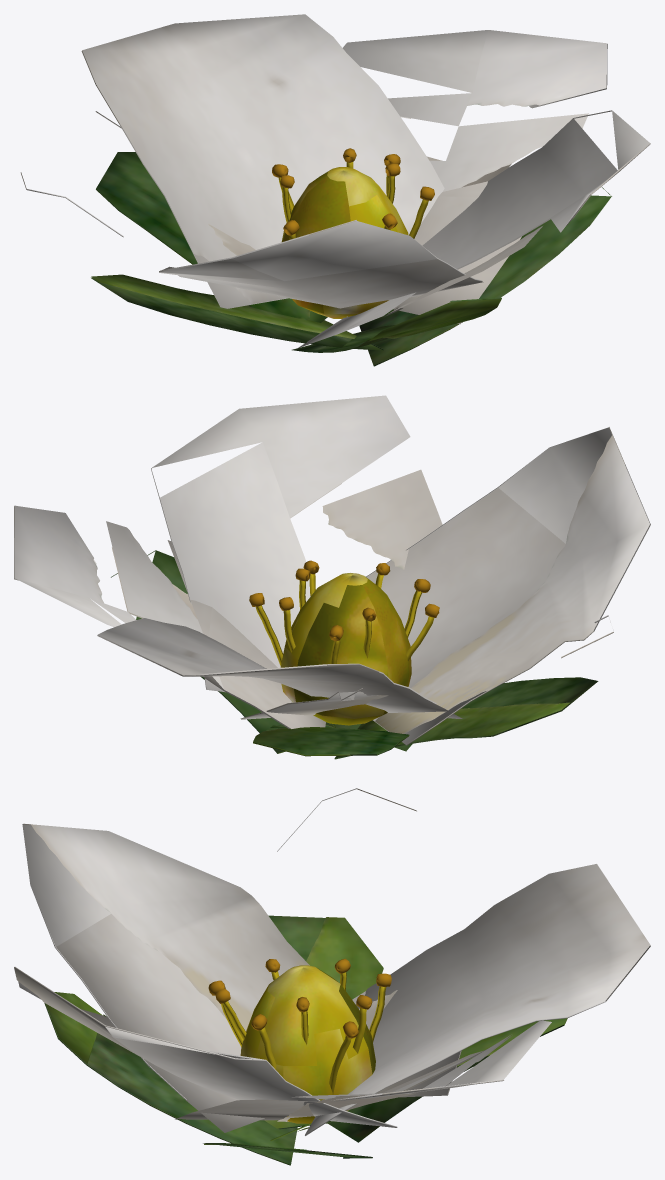
3 renders of one model, top to bottom at view 1: azimuth 30°, elevation 25°; view 2: azimuth 150°, elevation 25°; view 3: azimuth 270°, elevation 25°, orthographic. The views are drawn at different scales.
Parts seen in each view (by area): view 1: leaf3; view 2: leaf3; view 3: leaf3.
Boxes of the visible parts, x1,y1,x2,y2 form: leaf3: [20, 14, 650, 366]; leaf3: [14, 395, 650, 759]; leaf3: [14, 788, 650, 1165].
Size of the model in its own units: 0.051 by 0.0463 by 0.0208.
